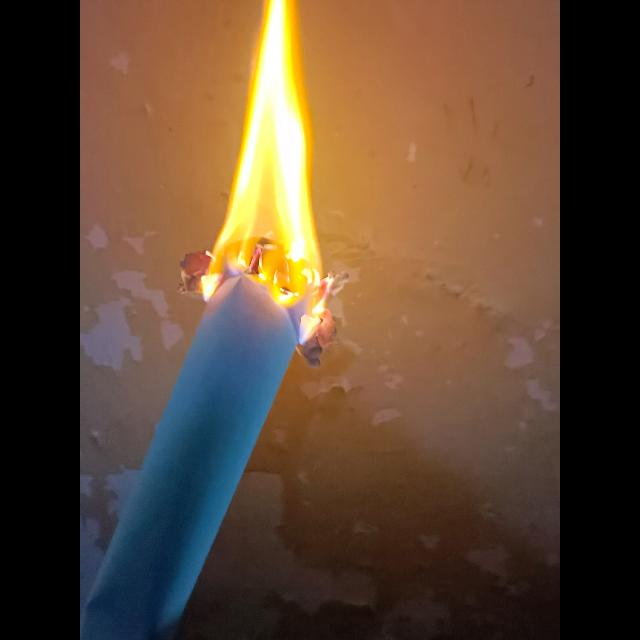fire: (182, 0, 340, 368)
